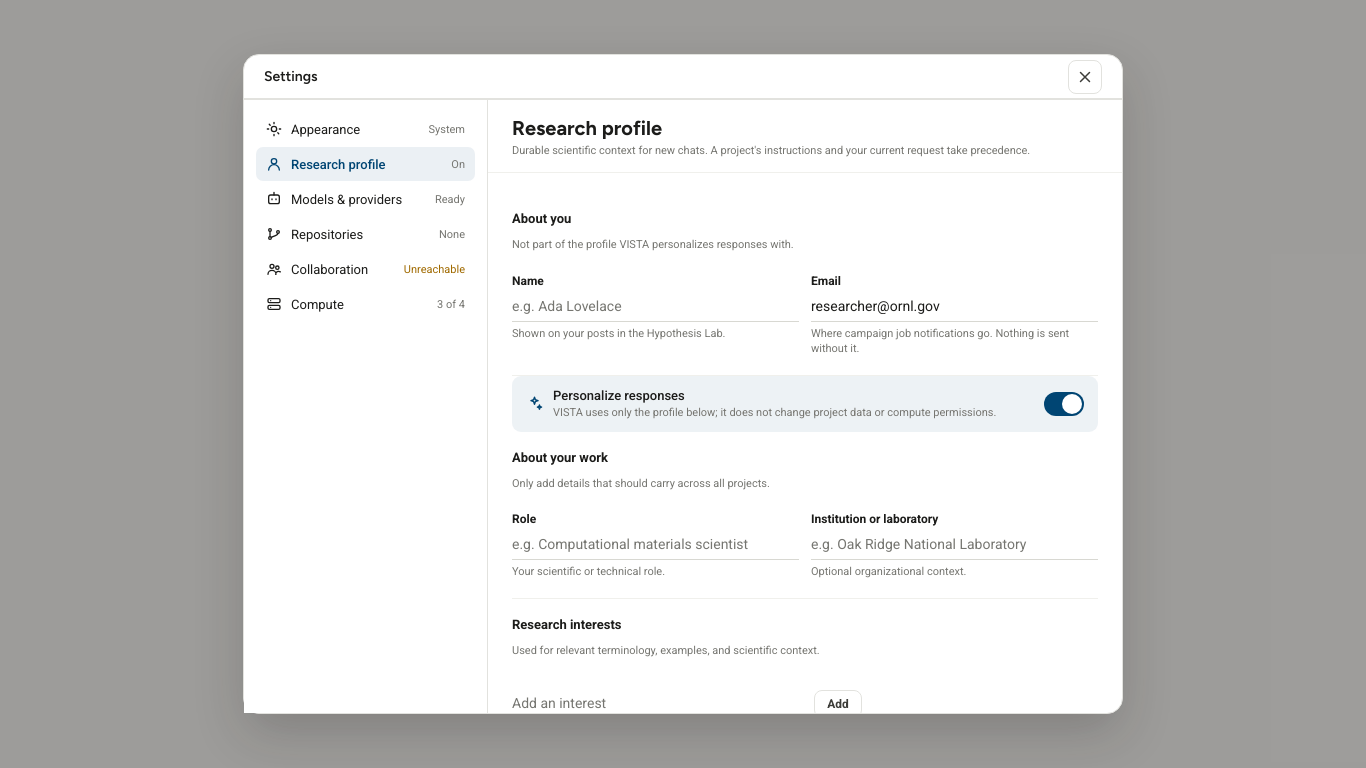
Scenario: UserSettingsModal collaboration › asks for a token when the gateway answers with a redirect
Click the button "Collaboration Unreachable". click: (366, 269)
box: [256,252,475,286]
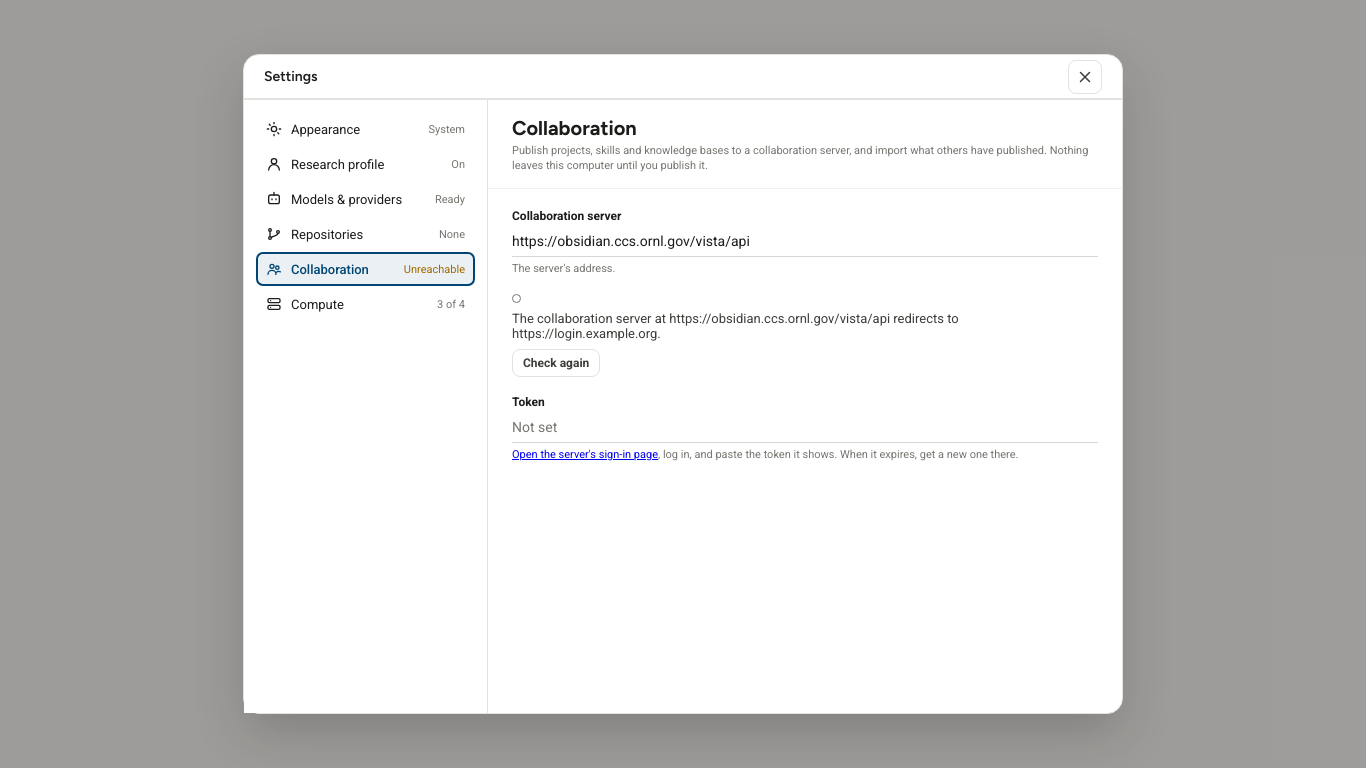
Expected: the password field labelled "Token" is shown, [512,413,1098,443]
